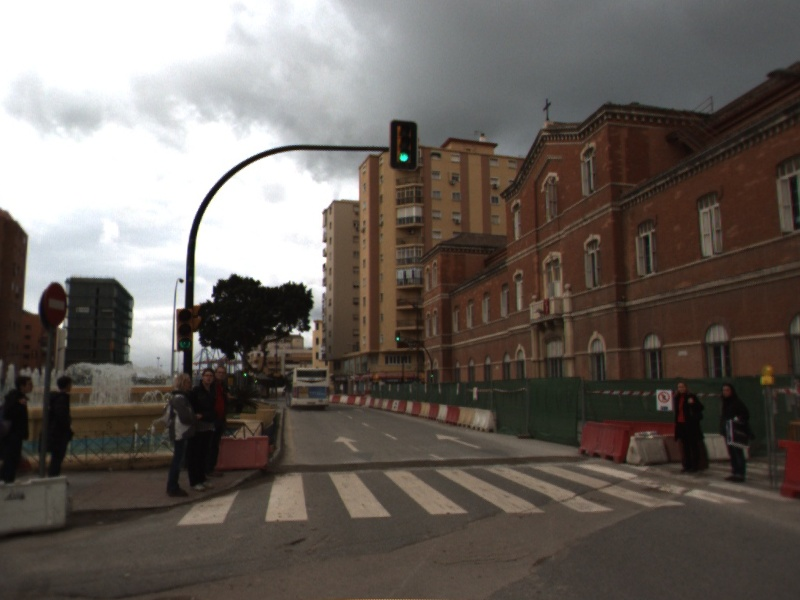STRAIGHT: (434, 431, 483, 451), (332, 434, 363, 454)
